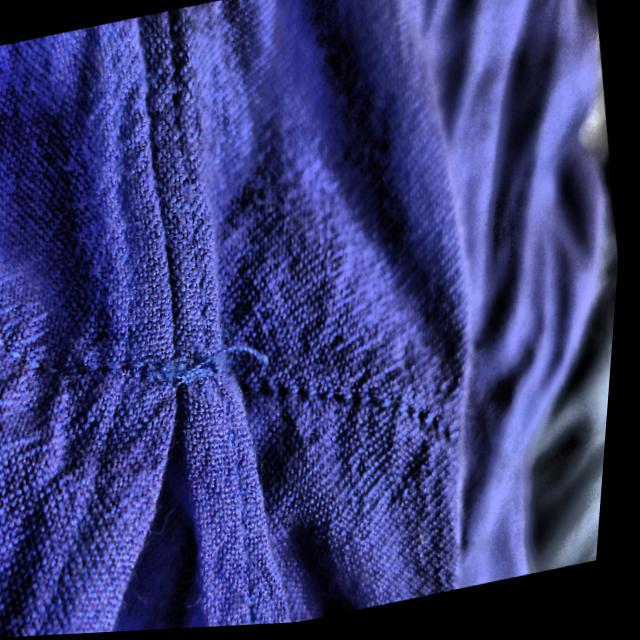Stitch: (73, 268, 325, 440)
